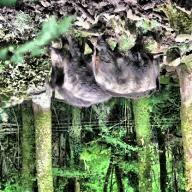boar: (72, 22, 192, 121), (45, 28, 122, 110)
